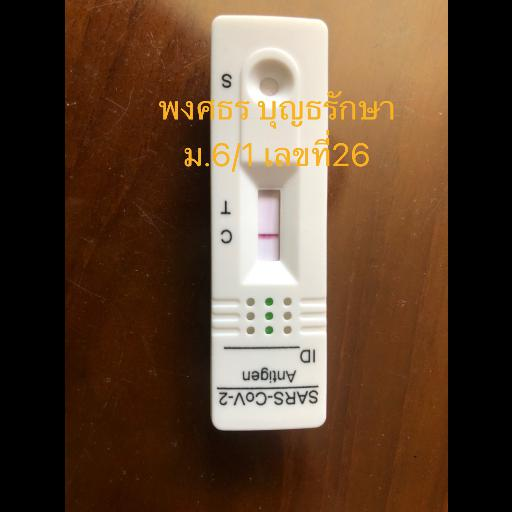Neg: (208, 14, 328, 432)
